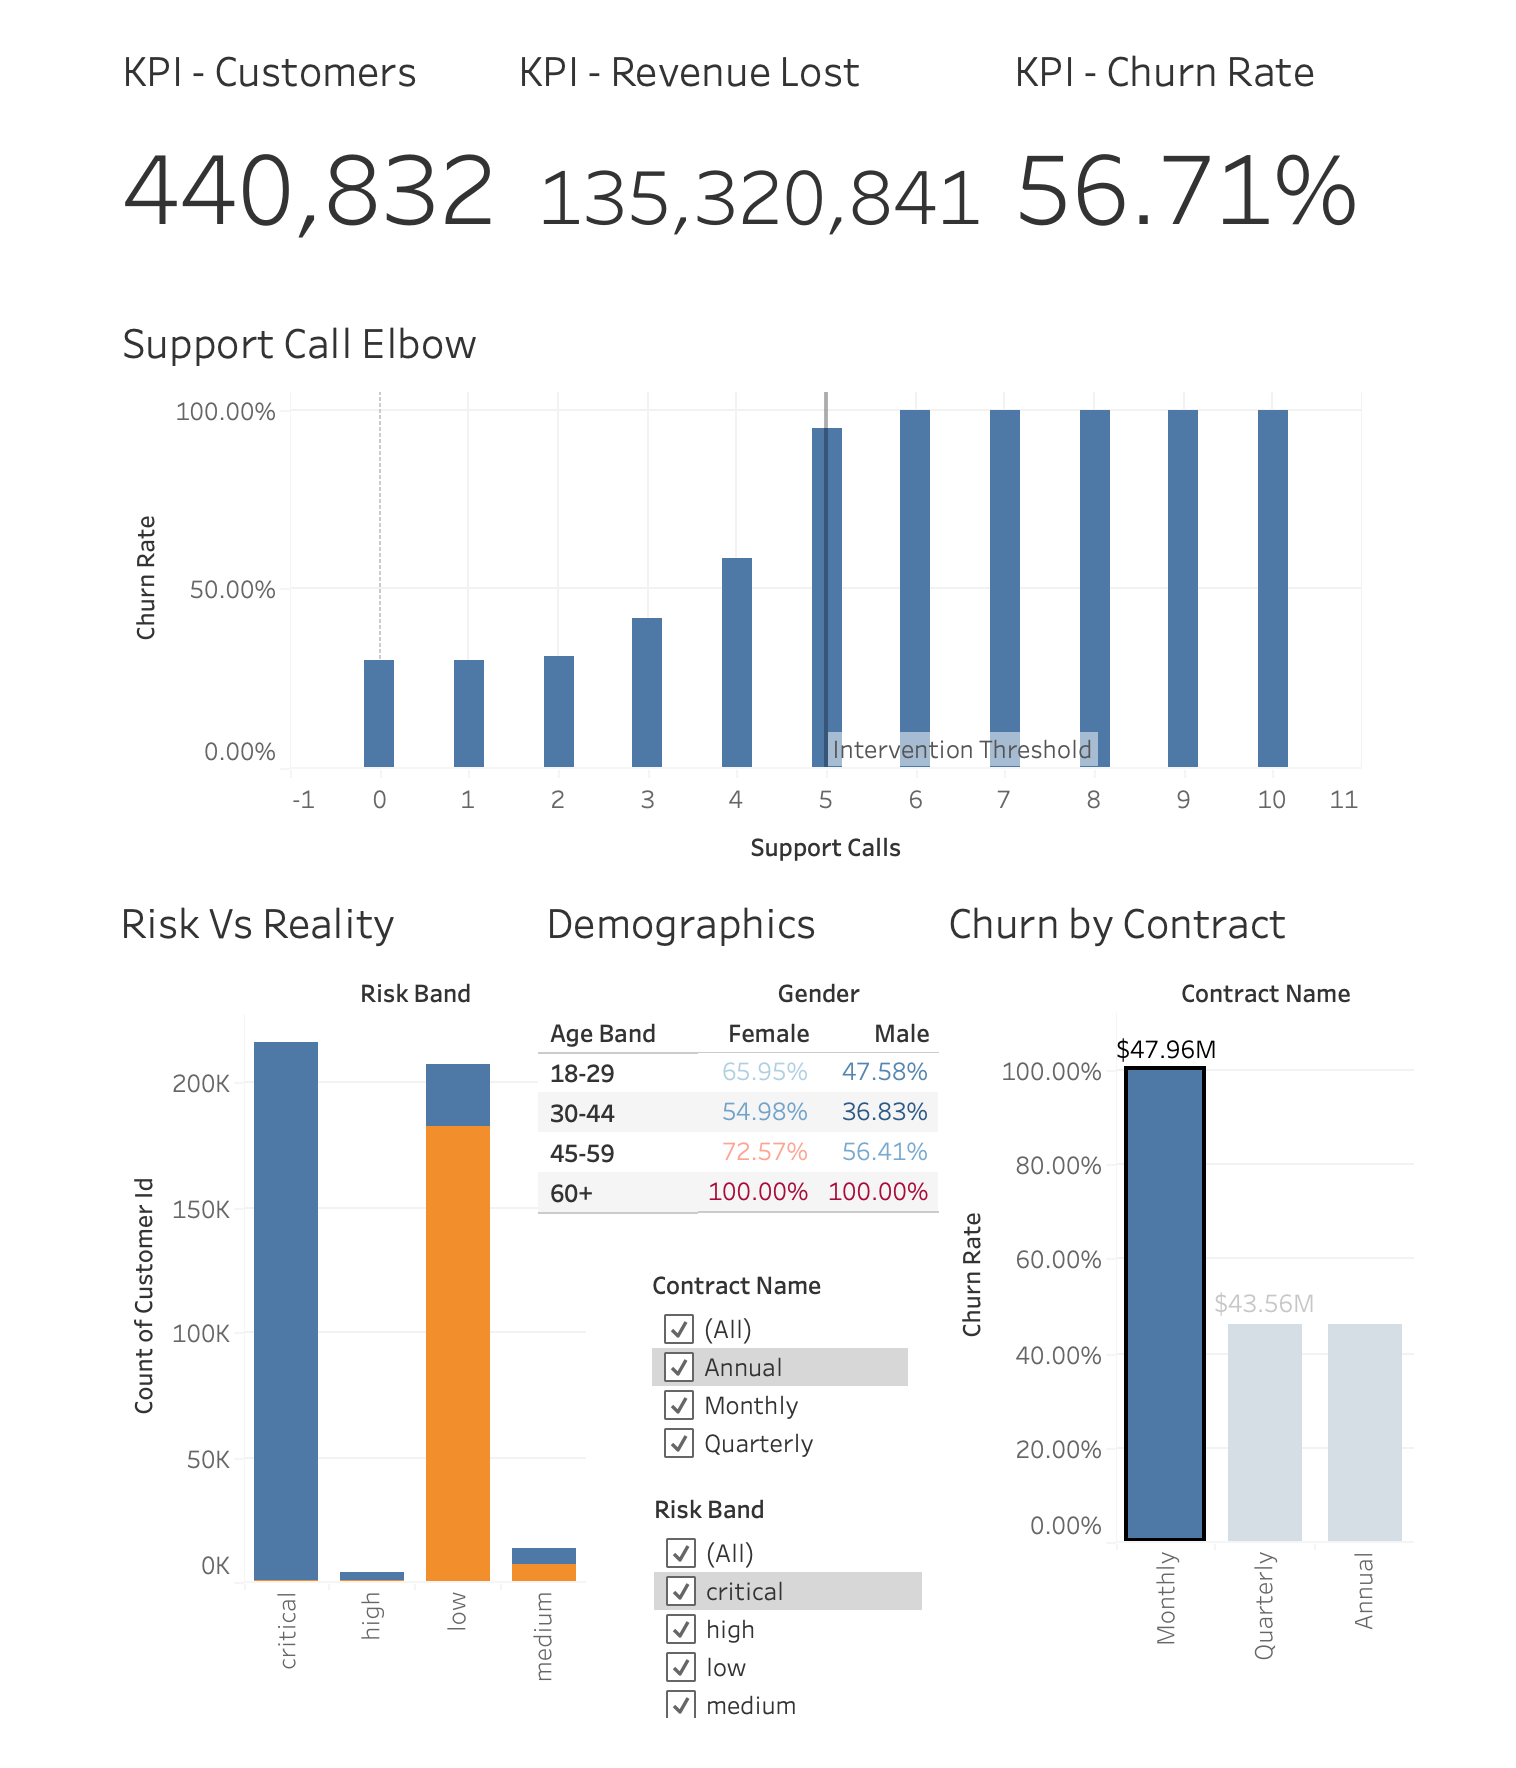

Layout of this report page (visuals, bound fields, positions):
{"tool":"tableau","page":{"name":"Dashboard 1","canvas":[1000,1000],"units":"permille","ordinal":0},"visuals":[{"type":"legend","title":"Demographics","param":"[federated.0sdx62r1yhrqnj15617gm1qb1wfu].[usr:Calculation_2261569158615040:qk]","box":[12.3,9.3,975.4,75.6]},{"type":"worksheet","title":"KPI - Revenue Lost","mark":"Automatic","box":[298.5,64,381.5,168.6]},{"type":"worksheet","title":"Support Call Elbow","mark":"Bar","rows":["Calculation_2261569158615040"],"cols":["support_calls"],"box":[3.1,202.3,960,332.6]},{"type":"worksheet","title":"Risk Vs Reality","mark":"Automatic","rows":["customer_id"],"cols":["risk_band"],"box":[0,524.4,364.6,474.4]},{"type":"worksheet","title":"Demographics","mark":"Automatic","rows":["age_band"],"cols":["gender"],"box":[326.2,524.4,327.7,233.7]},{"type":"worksheet","title":"Churn by Contract","mark":"Automatic","rows":["Calculation_2261569158615040"],"cols":["contract_name"],"box":[635.4,524.4,364.6,474.4]},{"type":"filter","title":"Churn by Contract","param":"[federated.0sdx62r1yhrqnj15617gm1qb1wfu].[none:contract_name:nk]","box":[360,738.4,287.7,116.3]},{"type":"filter","title":"Risk Vs Reality","param":"[federated.0sdx62r1yhrqnj15617gm1qb1wfu].[none:risk_band:nk]","box":[360,859.3,292.3,138.4]}]}

Visuals, with their boxes on the dashboard's canvas, which has no fixed pixel size, in thousandths of its width and height (x1, y1, x2, y2). These are canvas units, not pixel positions in the 1516x1768 screenshot, which may show the page scaled, cropped or inside an application window:
"Demographics" legend: Rect(12, 9, 988, 85)
"KPI - Revenue Lost" worksheet: Rect(298, 64, 680, 233)
"Support Call Elbow" worksheet (Bar marks): Rect(3, 202, 963, 535)
"Risk Vs Reality" worksheet: Rect(0, 524, 365, 999)
"Demographics" worksheet: Rect(326, 524, 654, 758)
"Churn by Contract" worksheet: Rect(635, 524, 1000, 999)
"Churn by Contract" filter: Rect(360, 738, 648, 855)
"Risk Vs Reality" filter: Rect(360, 859, 652, 998)
